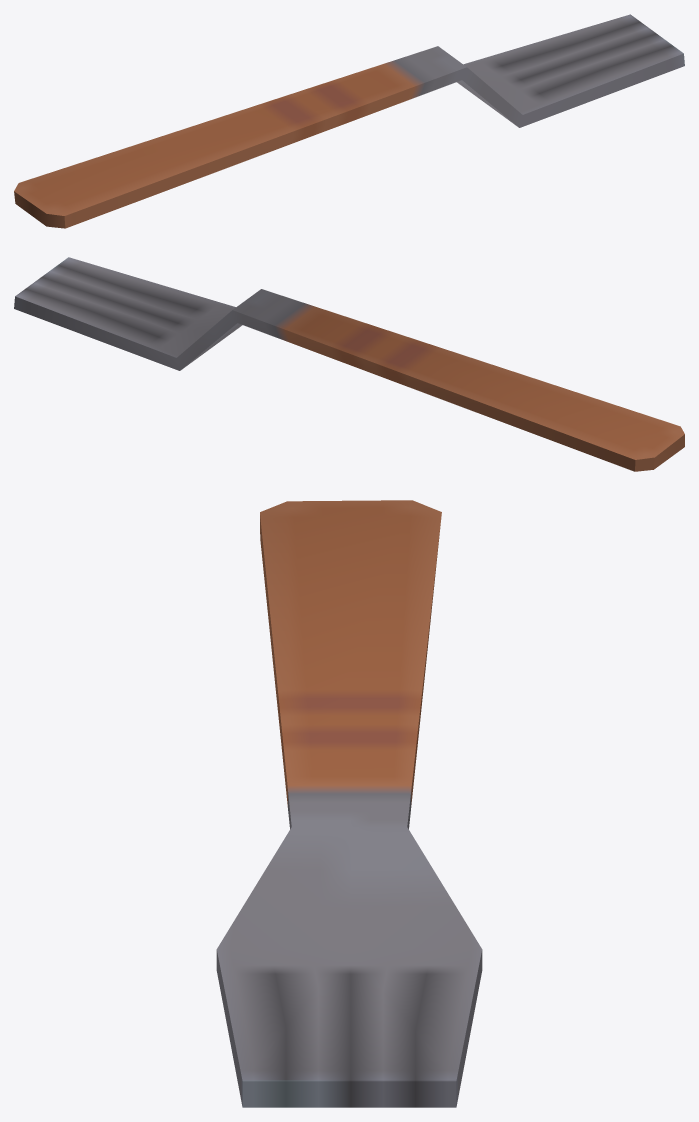
The model's file is Pixel_Misc_S_0028.fbx.
3 views of the same model, one above another, from view 1: azimuth 30°, elevation 25°; view 2: azimuth 150°, elevation 25°; view 3: azimuth 270°, elevation 25° (orthographic). The views are drawn at different scales.
Visible parts, largest first — view 1: Pixel_Misc_S_0028; view 2: Pixel_Misc_S_0028; view 3: Pixel_Misc_S_0028.
Part boxes in pixels (x1,y1,x2,y2): Pixel_Misc_S_0028: (14,14,684,228); Pixel_Misc_S_0028: (14,257,684,471); Pixel_Misc_S_0028: (216,500,482,1107).
Size of the model in its own units: 36 by 3.05 by 6.59.
